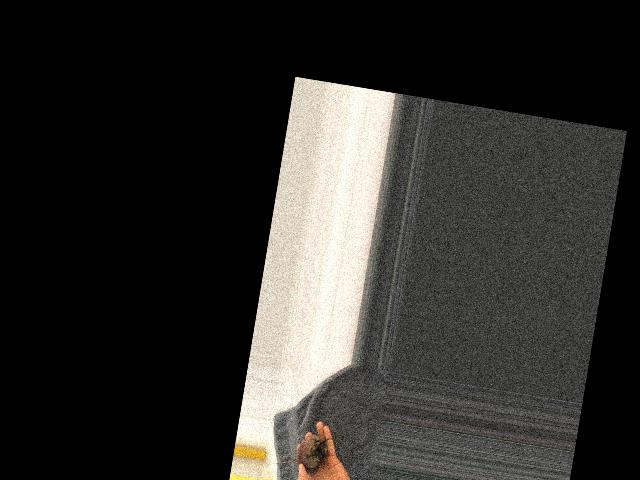beet: (275, 430, 330, 476)
